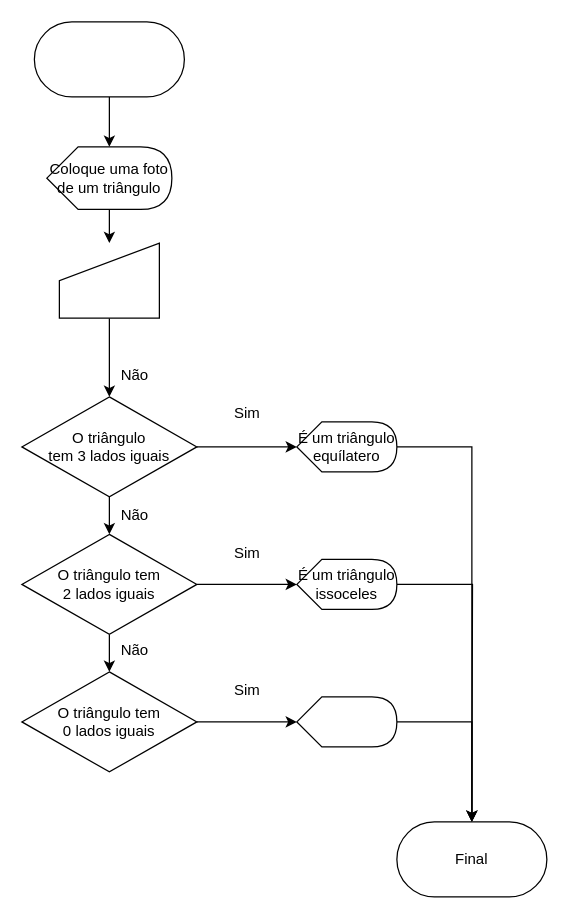
Some shapes in this 569 by 919 pixel diagram are drawn without their labels. The shapes that lost their labels are listed below. From the top down, each one's box as (x1, y1, x2, y2) in pixels, then its label:
(33, 21, 184, 97): Inicio
(58, 242, 159, 318): Foto do triângulo
(296, 696, 397, 747): É um triângulo escaleno
